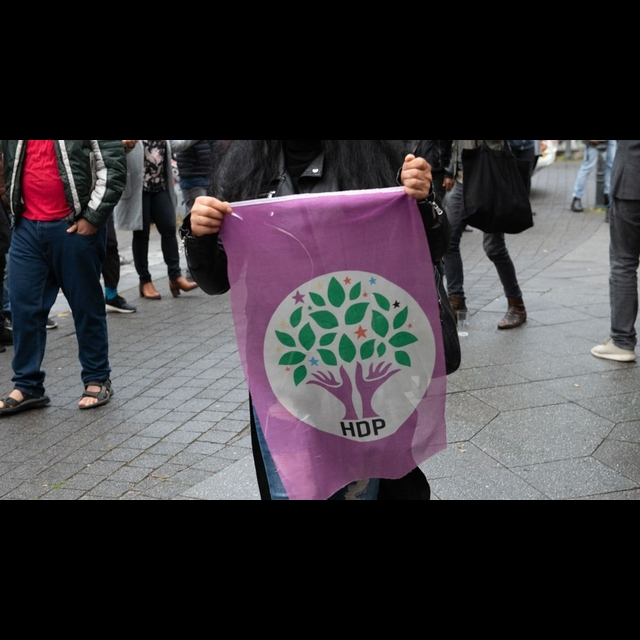HDP: (272, 256, 423, 421)
